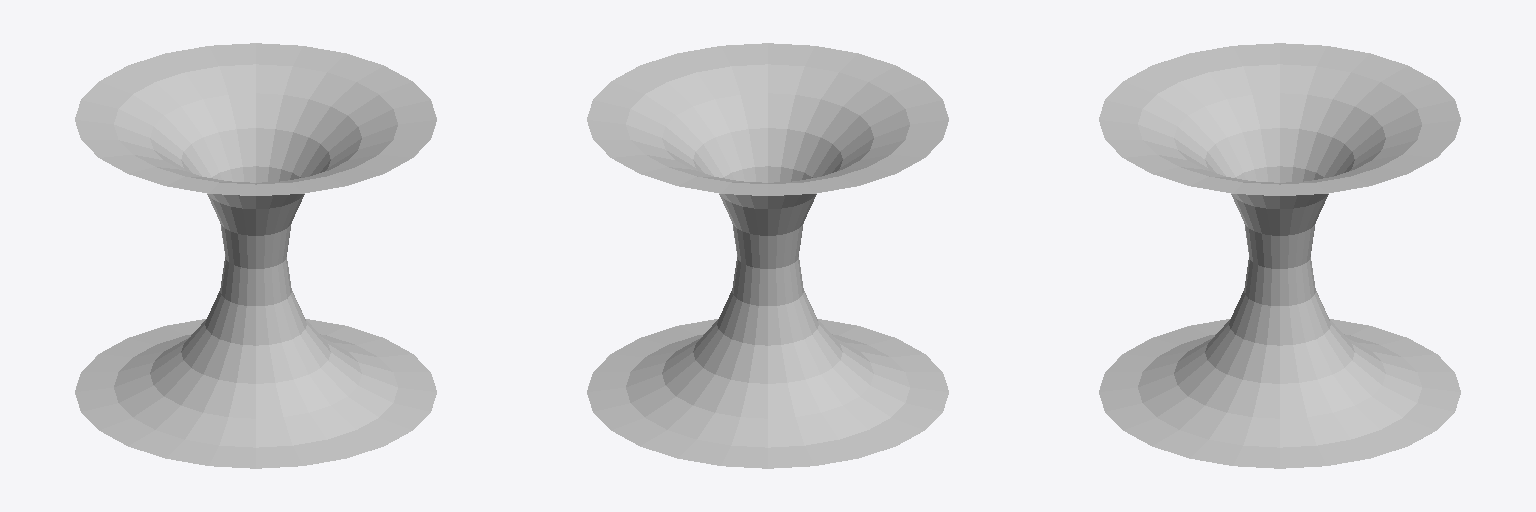
The model's file is ship_1.obj.
3 views of the same model, side by side, from view 1: azimuth 30°, elevation 25°; view 2: azimuth 150°, elevation 25°; view 3: azimuth 270°, elevation 25° (orthographic).
Parts seen in each view (by area): view 1: Mesh1 Wormhole_1 Wormhole_with_astronaut_1 Model; view 2: Mesh1 Wormhole_1 Wormhole_with_astronaut_1 Model; view 3: Mesh1 Wormhole_1 Wormhole_with_astronaut_1 Model.
Boxes of the visible parts, x1,y1,x2,y2 form: Mesh1 Wormhole_1 Wormhole_with_astronaut_1 Model: [75, 43, 436, 468]; Mesh1 Wormhole_1 Wormhole_with_astronaut_1 Model: [587, 43, 948, 468]; Mesh1 Wormhole_1 Wormhole_with_astronaut_1 Model: [1099, 43, 1460, 468].
Bounding box in the file's own units: 5.38 × 4.46 × 5.38.